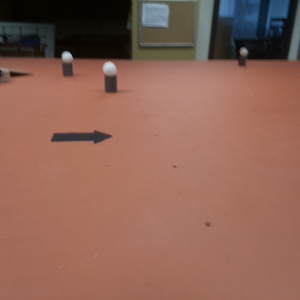obstacle: (103, 61, 118, 92), (59, 51, 75, 78), (237, 48, 249, 66)
side: (1, 69, 9, 83)
slope: (11, 67, 33, 78)
